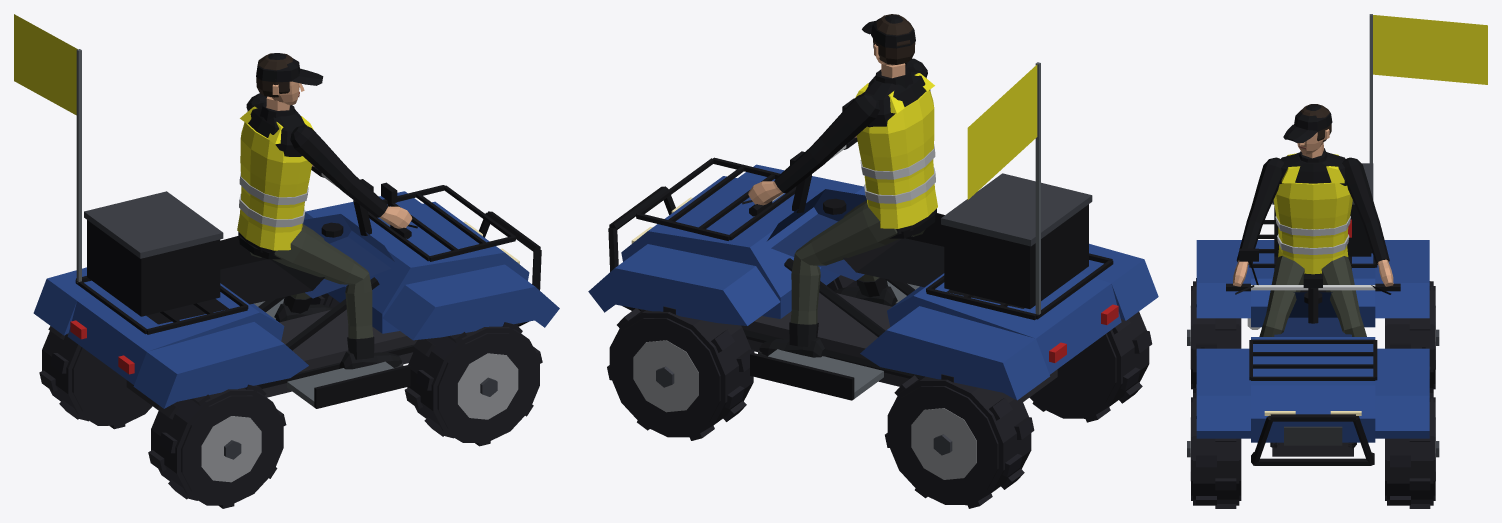
Rendered from quad.glb.
3 views of the same model, side by side, from view 1: azimuth 30°, elevation 25°; view 2: azimuth 150°, elevation 25°; view 3: azimuth 270°, elevation 25° (orthographic). The views are drawn at different scales.
Parts seen in each view (by area): view 1: Quad, Rider; view 2: Quad, Rider; view 3: Quad, Rider.
Boxes of the visible parts, x1,y1,x2,y2 form: Quad: (14, 14, 559, 508); Rider: (237, 53, 412, 369); Quad: (588, 62, 1158, 508); Rider: (748, 14, 937, 357); Quad: (1187, 14, 1487, 508); Rider: (1233, 104, 1393, 336).
Bounding box in the file's own units: 2.22 × 2.02 × 1.55.
